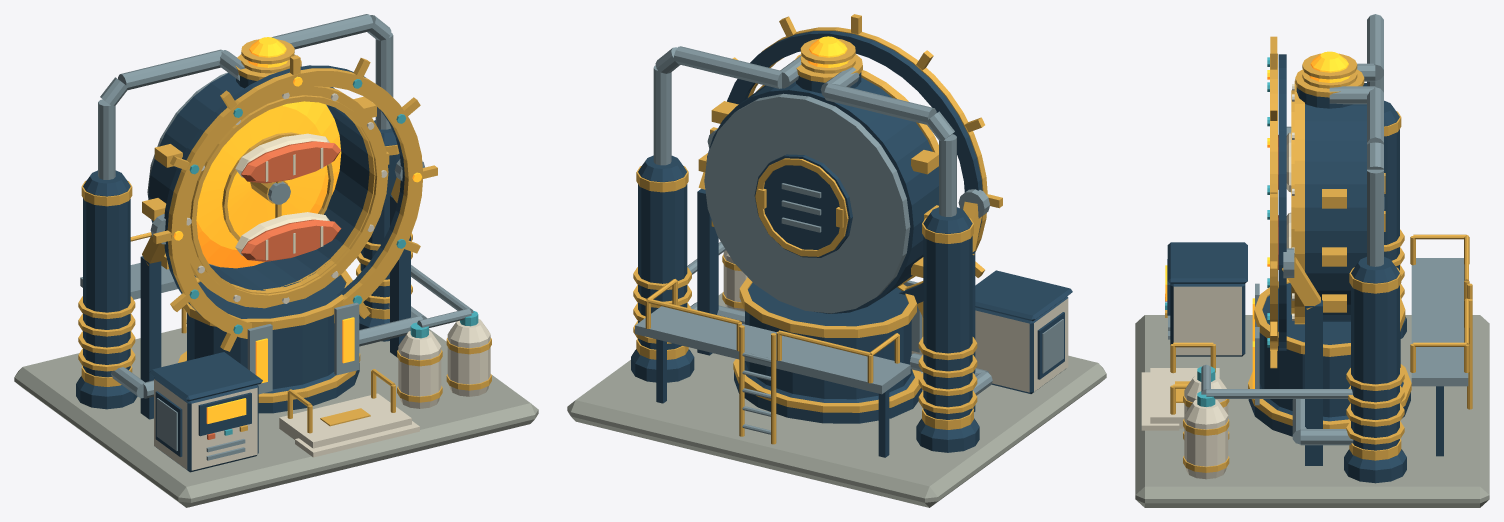
Rendered from fusion-lv4.glb.
3 views of the same model, side by side, from view 1: azimuth 30°, elevation 25°; view 2: azimuth 150°, elevation 25°; view 3: azimuth 270°, elevation 25° (orthographic). The views are drawn at different scales.
Visible parts, largest first — view 1: Fusion_L4, Golden_Sun_Ring, Twin_Nigiri_Rotor.003; view 2: Fusion_L4, Golden_Sun_Ring; view 3: Fusion_L4, Golden_Sun_Ring, Twin_Nigiri_Rotor.003.
Boxes of the visible parts, box(x1,y1,x2,y2) form: Fusion_L4: box(14, 14, 538, 507); Golden_Sun_Ring: box(153, 55, 437, 351); Twin_Nigiri_Rotor.003: box(222, 132, 341, 261); Fusion_L4: box(567, 31, 1106, 507); Golden_Sun_Ring: box(710, 14, 1002, 317); Fusion_L4: box(1135, 14, 1489, 507); Golden_Sun_Ring: box(1267, 36, 1277, 368); Twin_Nigiri_Rotor.003: box(1278, 132, 1291, 269).
Bounding box in the file's own units: 5.4 × 5.19 × 4.5.
